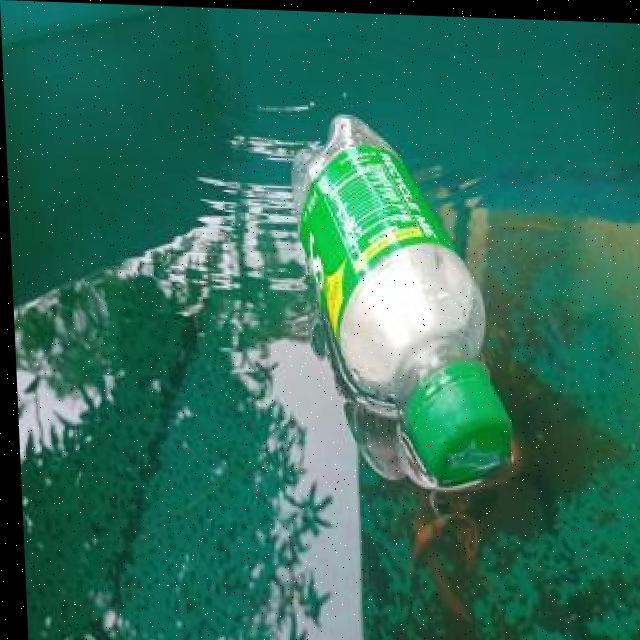bottle: (282, 101, 518, 490)
